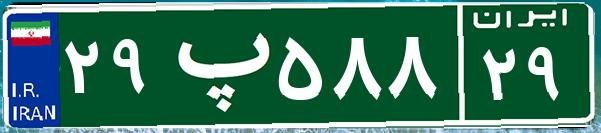2: (57, 26, 110, 107), (475, 38, 525, 113)
5: (273, 28, 330, 110)
8: (385, 28, 445, 110), (330, 28, 385, 110)
9: (110, 28, 158, 105), (525, 38, 570, 115)
پ: (158, 15, 273, 115)
